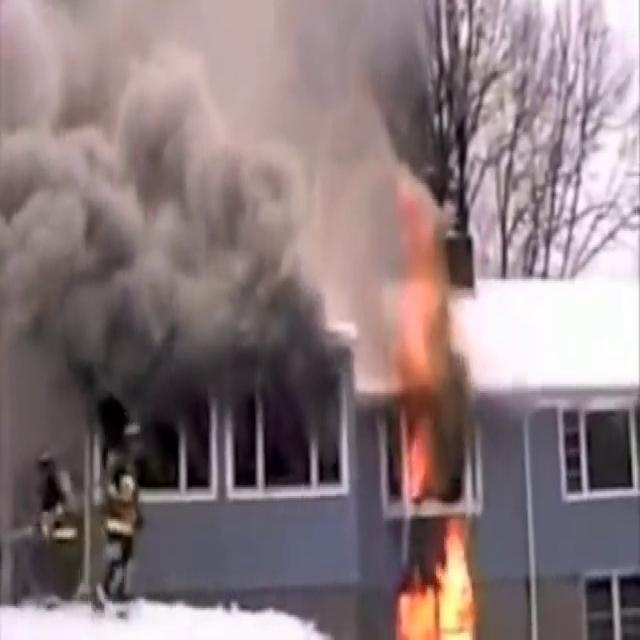Fire: (389, 172, 459, 406), (389, 502, 488, 639)
Smoke: (0, 0, 453, 452)
